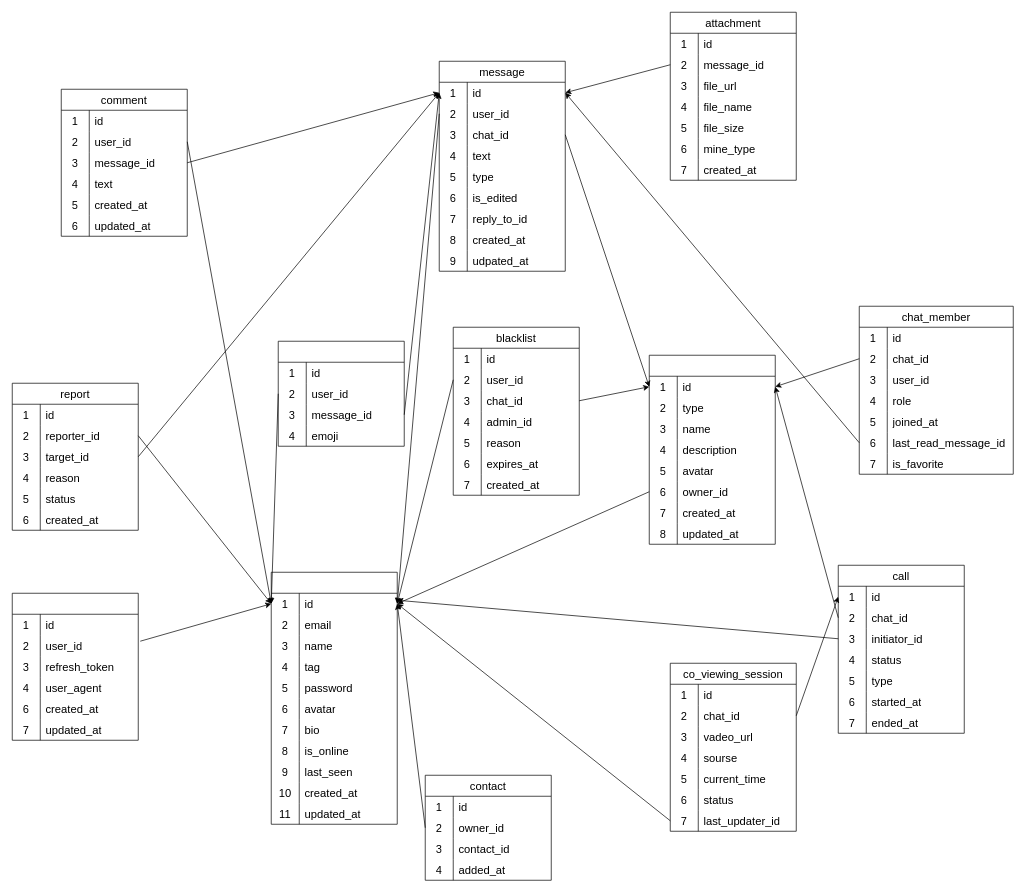
Some shapes in this 1026 by 893 pixel diagram are drawn without their labels. The box of each missing label's shape, as (x1, y1, x2, y2) in pixels:
chat: (649, 355, 775, 544)
reaction: (278, 341, 404, 446)
user: (271, 572, 397, 824)
user_session: (12, 593, 138, 740)
